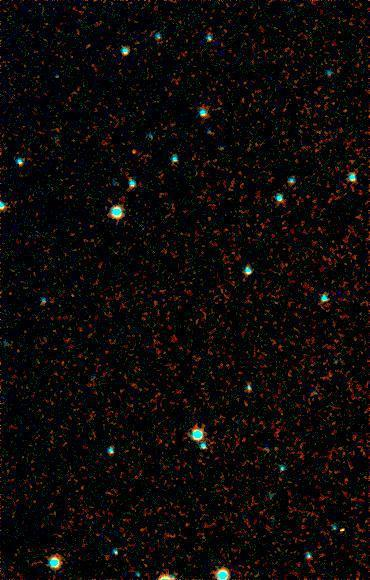star: (120, 141, 150, 171)
